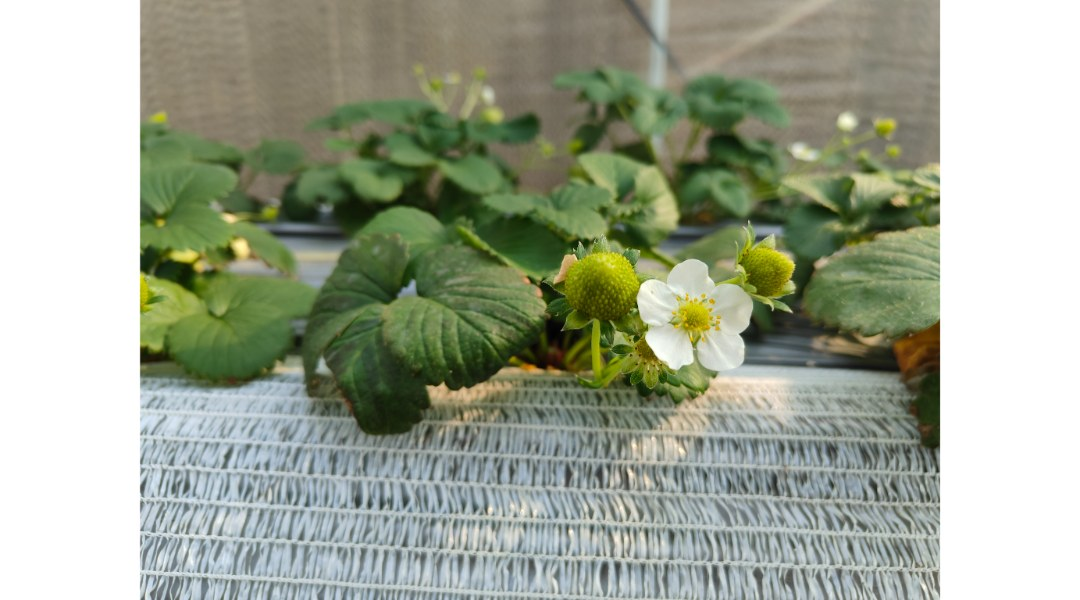berry: (550, 218, 659, 330), (730, 227, 819, 302)
flower: (627, 255, 764, 387)
strain: (585, 317, 606, 390)
